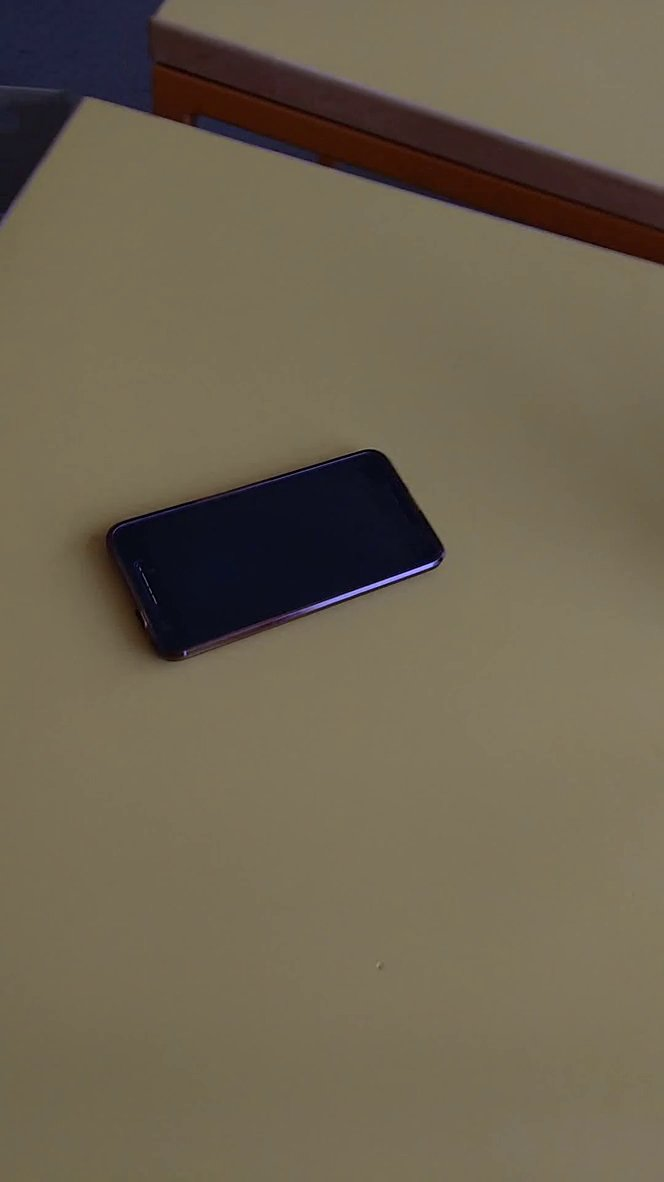phone: (97, 431, 462, 672)
